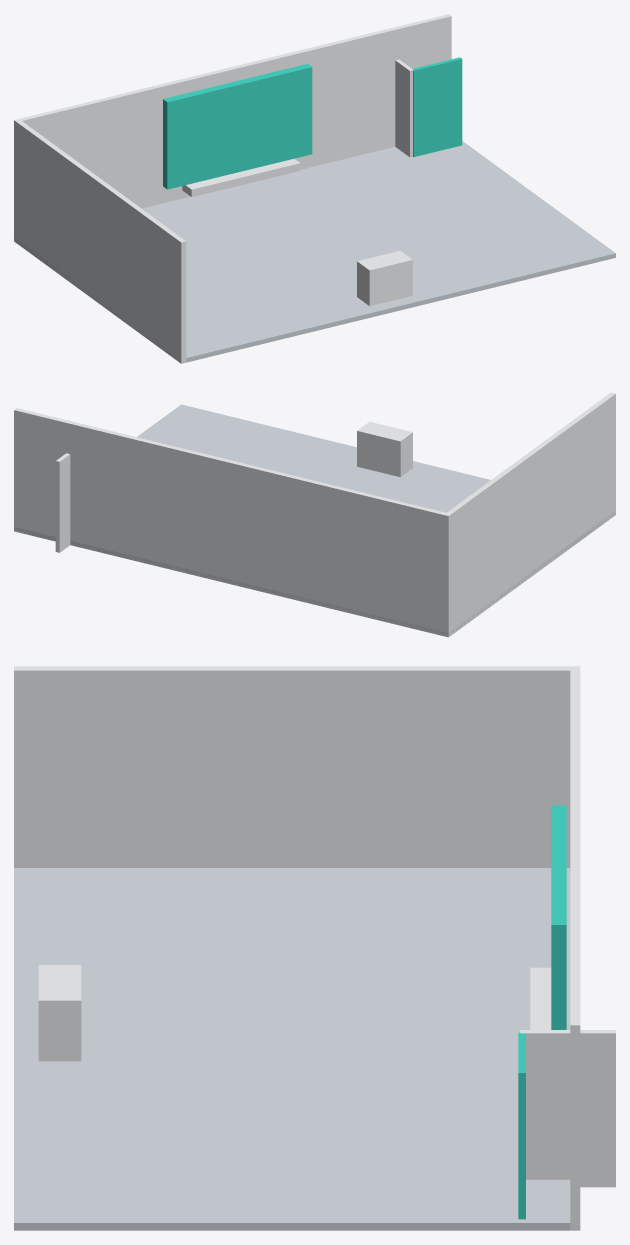
3 views of the same model, one above another, from view 1: azimuth 30°, elevation 25°; view 2: azimuth 150°, elevation 25°; view 3: azimuth 270°, elevation 25° (orthographic). The views are drawn at different scales.
Parts seen in each view (by area): view 1: Exhibition Booth Concept; view 2: Exhibition Booth Concept; view 3: Exhibition Booth Concept.
Boxes of the visible parts, x1,y1,x2,y2 form: Exhibition Booth Concept: (14,14,615,363); Exhibition Booth Concept: (14,392,615,637); Exhibition Booth Concept: (14,666,615,1230).
Bounding box in the file's own units: 12 × 3.2 × 8.51.
